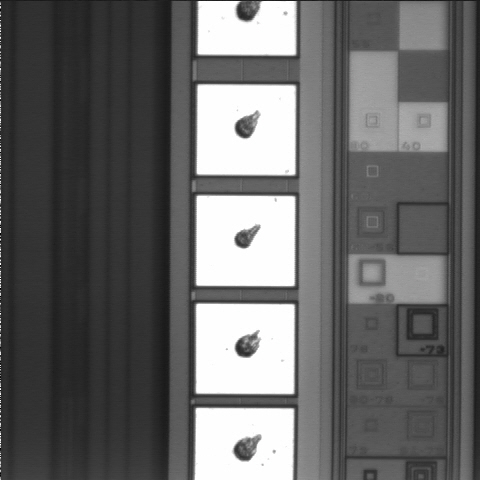pad: (197, 85, 296, 175), (196, 196, 295, 286), (196, 304, 294, 394)
